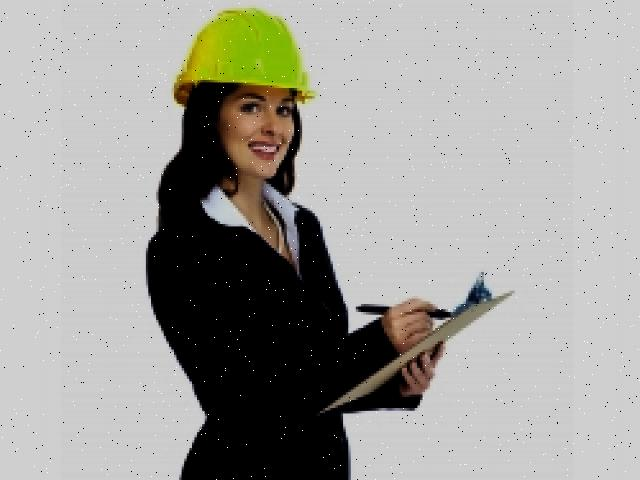Helmet: (165, 0, 323, 117)
